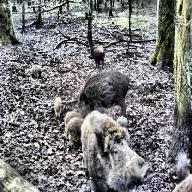boar: (71, 102, 155, 192), (57, 60, 145, 116)
